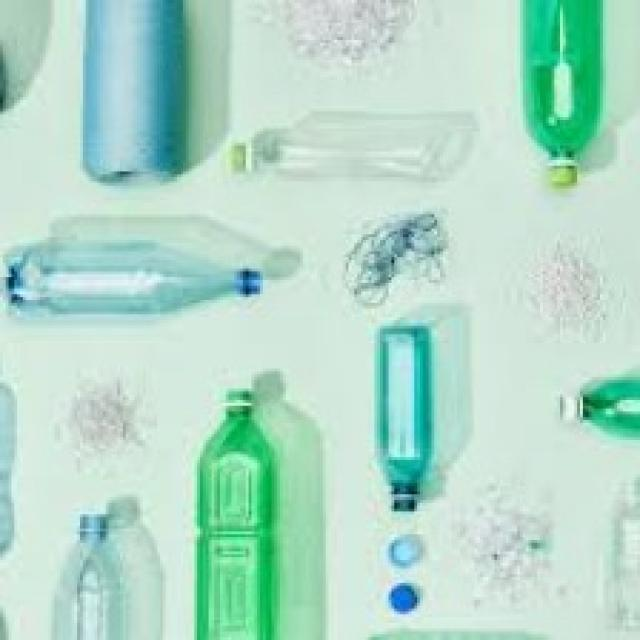plastic_bottle: (6, 231, 273, 340), (193, 392, 289, 640), (80, 1, 199, 186), (517, 1, 611, 198), (230, 119, 462, 197), (366, 325, 443, 521), (49, 505, 139, 640), (542, 368, 640, 459)
